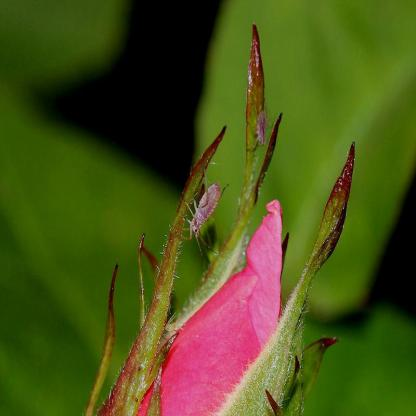aphid: (185, 160, 227, 258), (249, 89, 269, 154)
